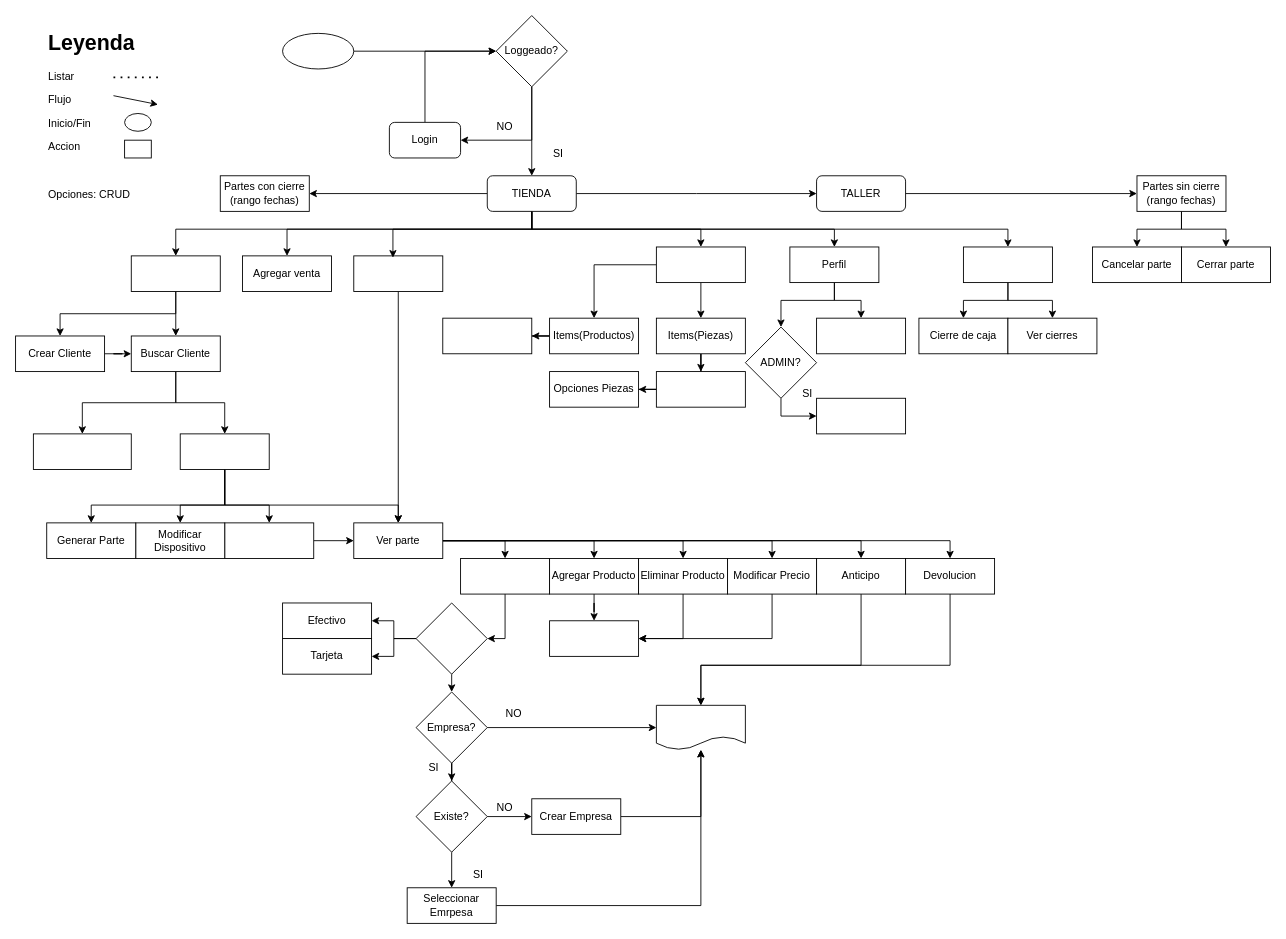
This 1286x939 diagram has some shape labels left out. Each missing label, with the box of its shape:
Buscar x Marca&Modelo: (655, 371, 745, 407)
Busqueda Parte: (353, 255, 443, 291)
Caja: (963, 246, 1052, 283)
Cliente: (130, 255, 220, 291)
Crear perfil: (816, 397, 906, 434)
Dispositivos: (179, 433, 269, 469)
Facturar: (460, 558, 550, 594)
Generar Factura: (655, 704, 745, 750)
Gestiones: (655, 246, 745, 283)
INICIO: (282, 32, 354, 69)
Listar partes: (224, 522, 314, 558)
Metodo?: (415, 602, 487, 674)
Modificar perfil: (816, 317, 906, 354)
Opciones Clientes: (32, 433, 131, 469)
Opciones productos: (442, 317, 532, 354)
Producto En Parte: (549, 620, 639, 656)
